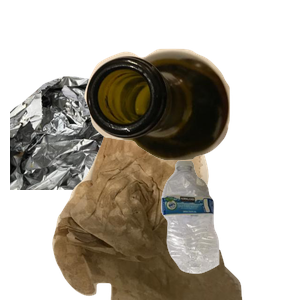glass: (82, 46, 300, 199)
metal: (10, 73, 212, 253)
plastic: (159, 158, 300, 300)
trash: (50, 120, 285, 300)
